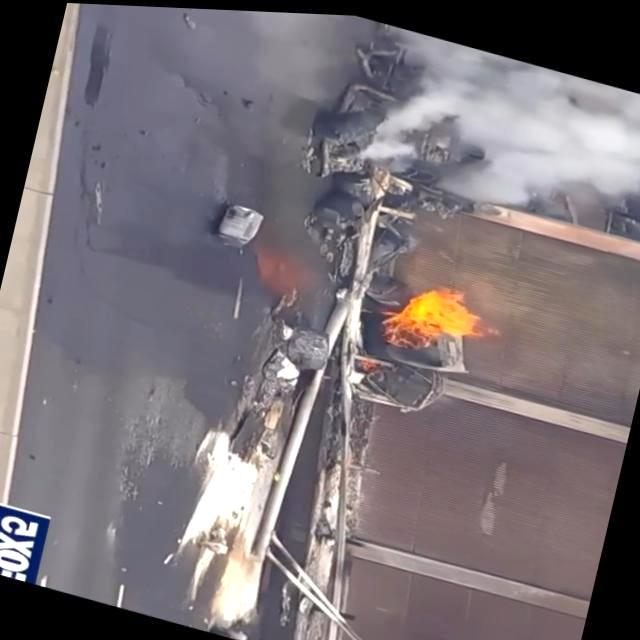fire: (377, 274, 489, 358)
